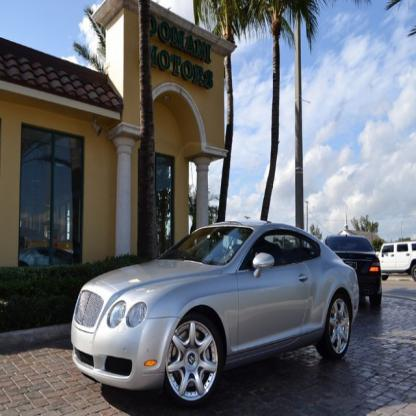Vehicle: (70, 222, 363, 404)
